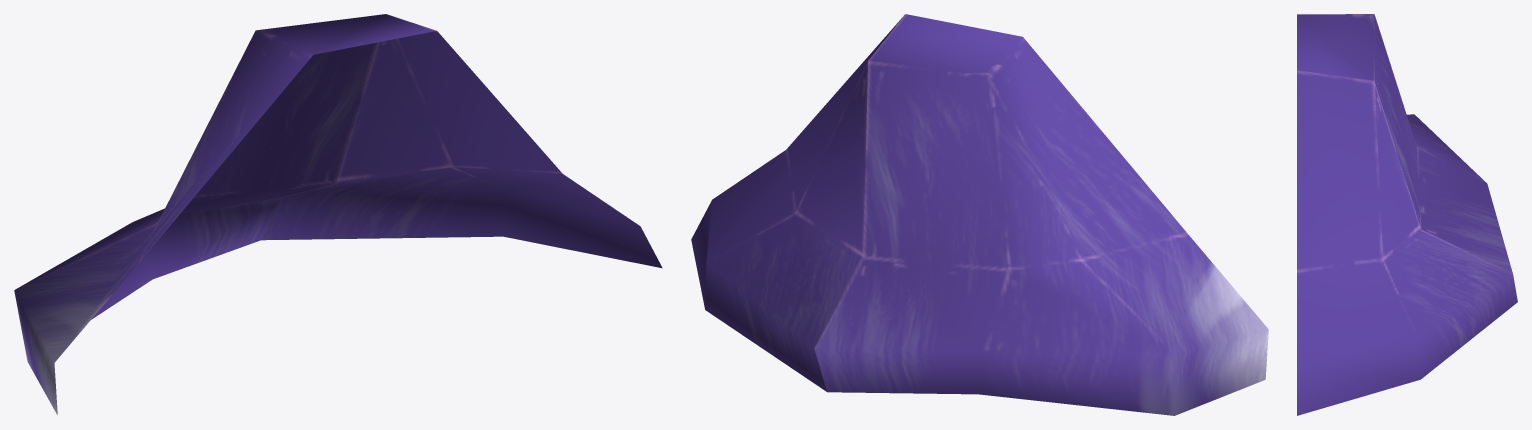
File: Roca_02.fbx
3 views of the same model, side by side, from view 1: azimuth 30°, elevation 25°; view 2: azimuth 150°, elevation 25°; view 3: azimuth 270°, elevation 25° (orthographic). The views are drawn at different scales.
Visible parts, largest first — view 1: polySurface8; view 2: polySurface8; view 3: polySurface8.
Boxes of the visible parts, bbox=[...] form: polySurface8: bbox=[14, 14, 662, 414]; polySurface8: bbox=[691, 14, 1268, 415]; polySurface8: bbox=[1297, 14, 1517, 415].
Bounding box in the file's own units: 3.15 × 1.48 × 1.16.
